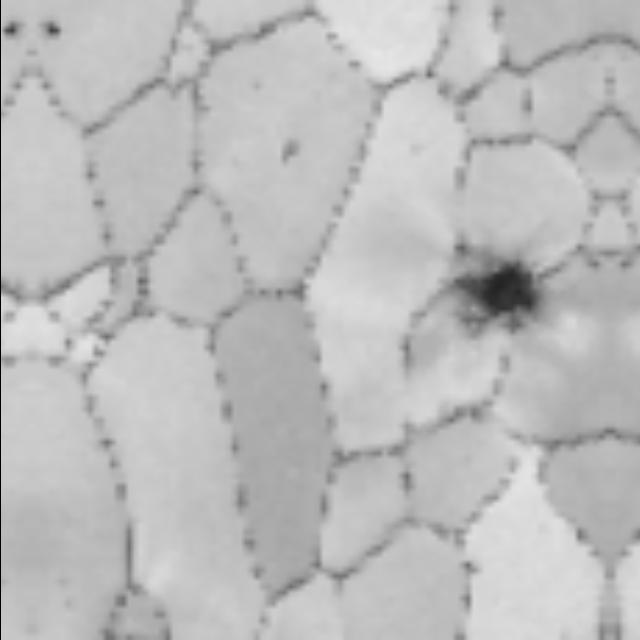good_void: (442, 239, 542, 346), (38, 13, 63, 42), (0, 13, 22, 42), (276, 139, 299, 164)
